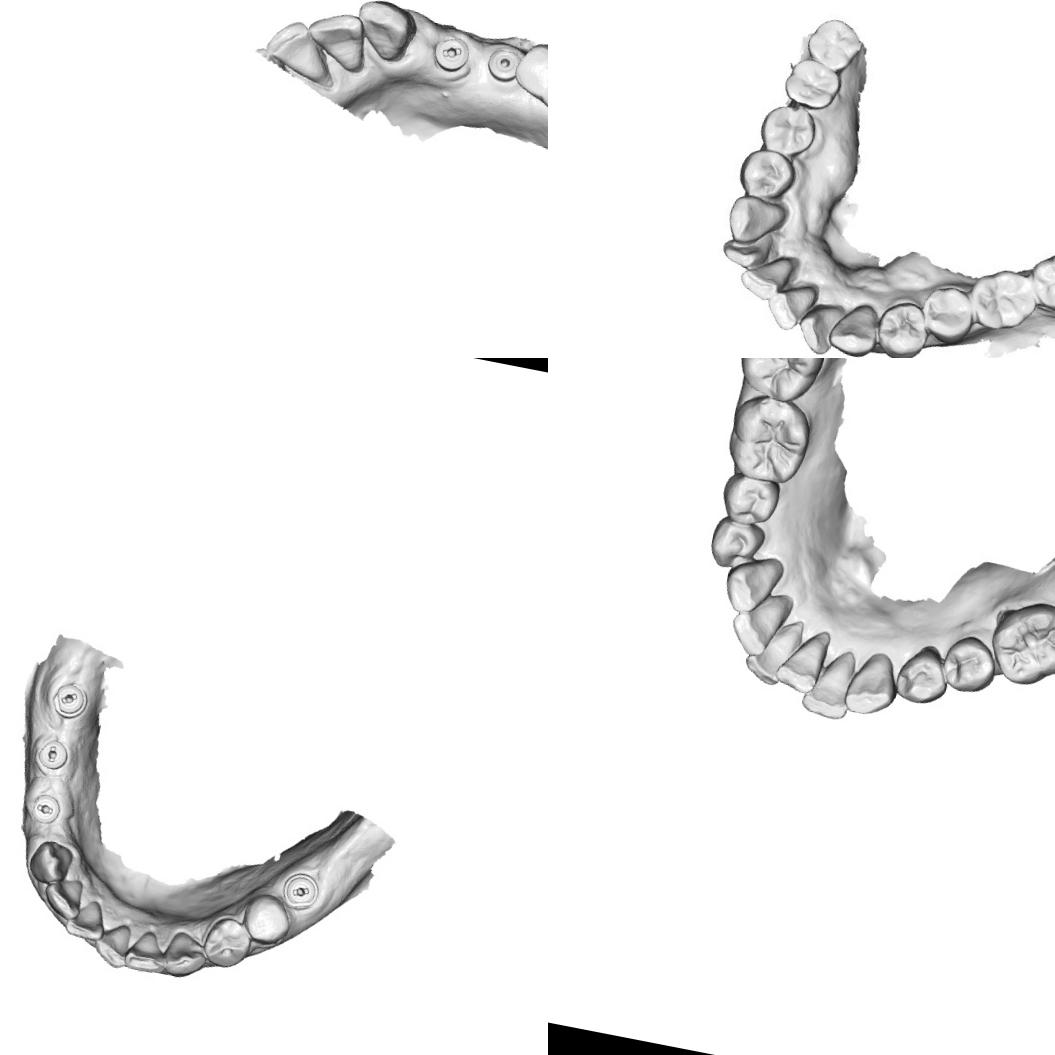canine: (840, 644, 903, 720), (719, 548, 785, 618), (348, 0, 418, 65), (726, 192, 788, 246), (828, 299, 883, 358), (158, 927, 212, 982), (25, 836, 75, 888)
implant: (480, 40, 528, 86)
implant_minus: (428, 29, 474, 75), (278, 868, 322, 912), (48, 678, 90, 722), (34, 736, 72, 773), (27, 790, 62, 826)
incisor: (260, 15, 337, 90), (300, 3, 372, 76), (740, 611, 806, 690), (725, 591, 791, 661), (773, 624, 834, 697), (800, 648, 860, 720), (744, 252, 800, 301), (801, 297, 847, 356), (120, 926, 172, 976), (717, 226, 772, 272), (62, 894, 110, 943), (40, 873, 86, 922), (90, 918, 132, 970), (768, 284, 817, 327)
molar: (715, 387, 817, 490), (982, 593, 1055, 694), (963, 260, 1043, 337), (731, 358, 831, 408), (796, 9, 864, 79), (776, 53, 843, 111), (509, 38, 548, 120), (1026, 245, 1055, 319)
premolar: (889, 641, 951, 710), (716, 470, 782, 532), (938, 631, 999, 698), (756, 100, 822, 160), (919, 280, 978, 346), (705, 513, 766, 575), (873, 298, 930, 358), (238, 890, 296, 948), (198, 912, 254, 972), (736, 148, 792, 197)
